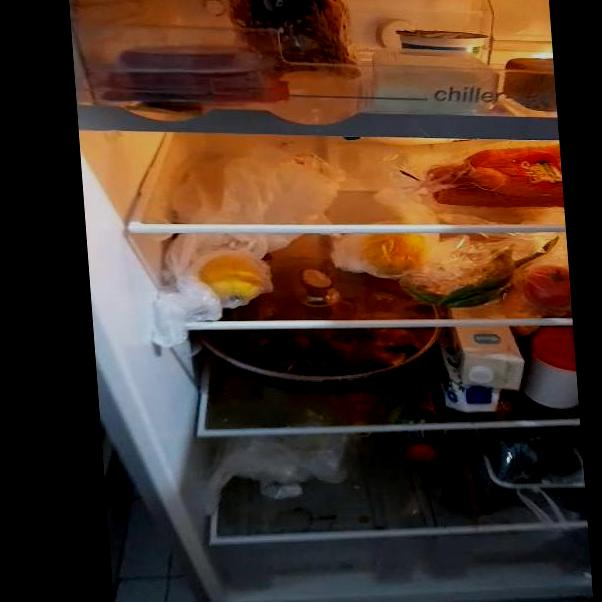bread: (220, 0, 359, 74)
broccoli: (482, 432, 583, 487)
butter: (505, 57, 556, 110)
carrot: (419, 153, 563, 208)
cheese: (365, 54, 497, 111)
green chilies: (405, 271, 523, 310)
lemon: (201, 249, 271, 302), (361, 233, 430, 274)
milk: (436, 327, 526, 411)
salami: (111, 37, 256, 75)
tomato: (515, 265, 572, 308)
yoghurt: (396, 26, 489, 57)
